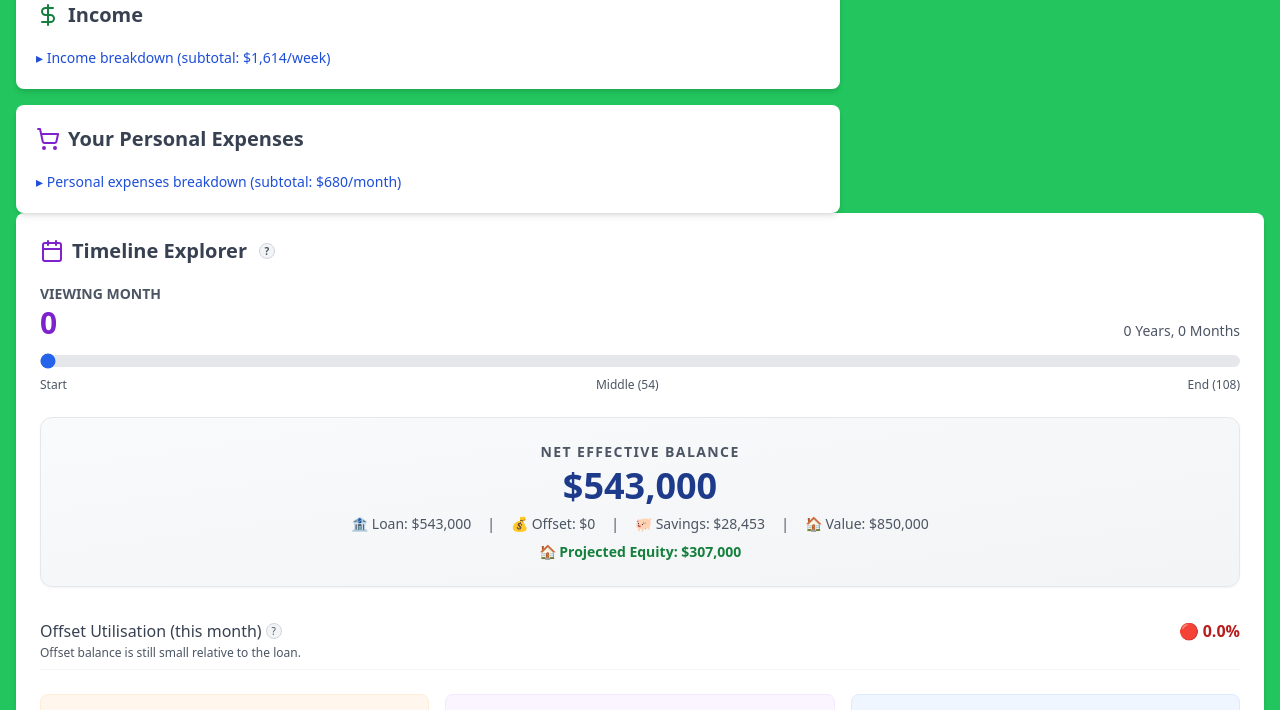
it: The Timeline Explorer at the payoff month (TODO-168) › shows the loan retired, agreeing with the "Time to pay off" headline above it
(page scrolled)
Step 1. Set the slider named "Viewing month" to "108" → (1232, 361), box x1=40 y1=355 x2=1240 y2=367
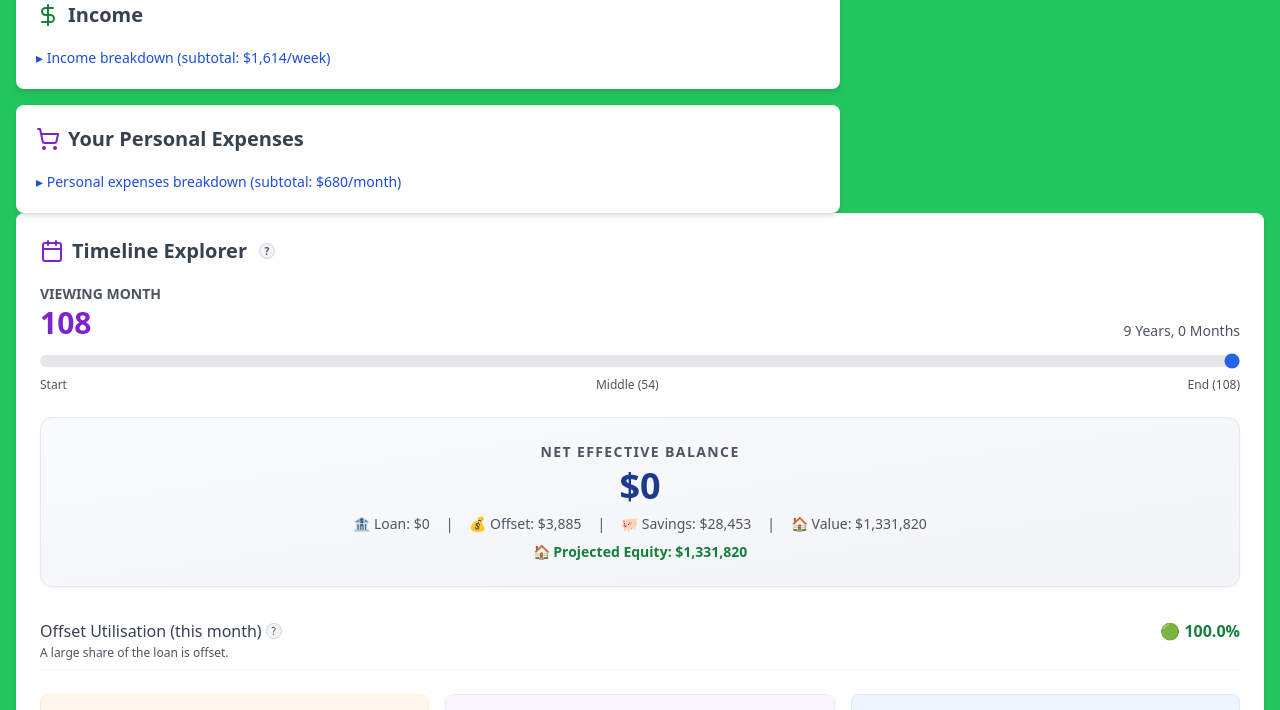
expect the text "🏦 Loan: $0" is shown: met, box x1=353 y1=514 x2=430 y2=534
expect the text "$0" is shown: met, box x1=619 y1=461 x2=661 y2=510
